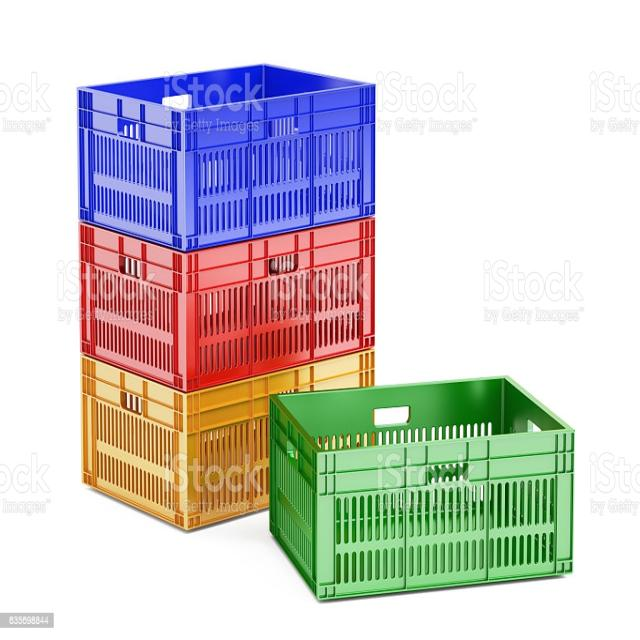basket: (256, 363, 591, 606), (77, 63, 376, 252), (79, 347, 374, 531), (77, 215, 375, 393)
